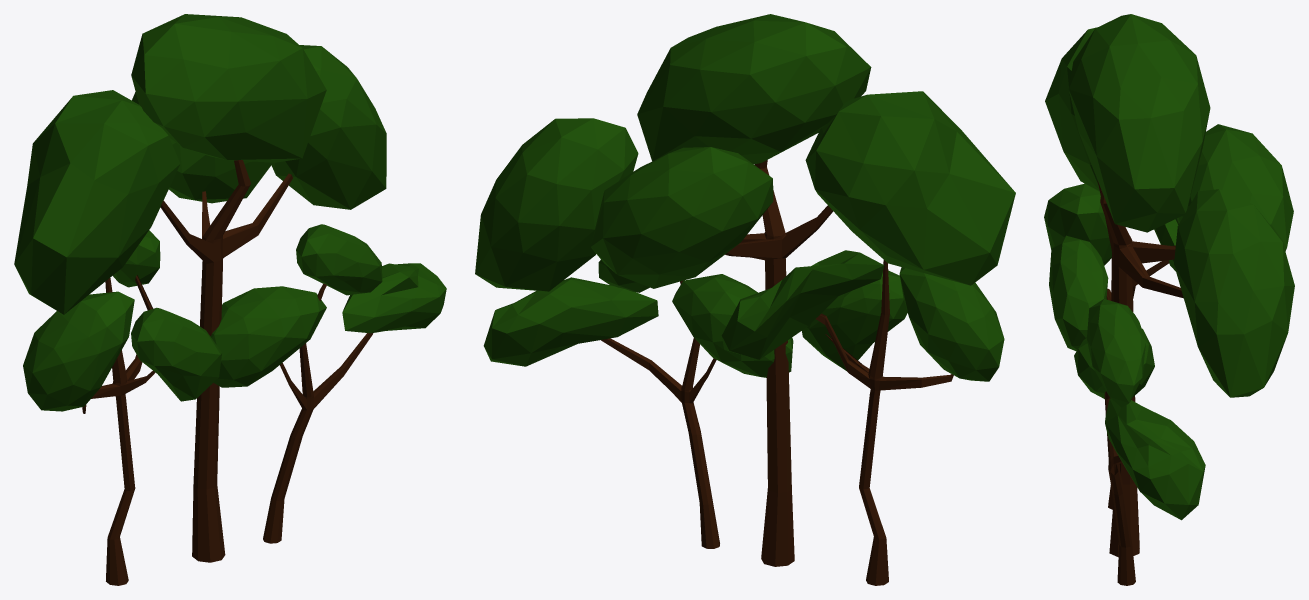
File: arbol4.glb
3 renders of one model, left to right at view 1: azimuth 30°, elevation 25°; view 2: azimuth 150°, elevation 25°; view 3: azimuth 270°, elevation 25°, orthographic. The views are drawn at different scales.
Parts seen in each view (by area): view 1: skpEFB7_1001; view 2: skpEFB7_1001; view 3: skpEFB7_1001.
Boxes of the visible parts, x1,y1,x2,y2 form: skpEFB7_1001: (14, 14, 446, 585); skpEFB7_1001: (475, 14, 1015, 585); skpEFB7_1001: (1044, 14, 1294, 585).
Size of the model in its own units: 3817 by 4261 by 1854.
